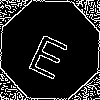E: (25, 25, 76, 81)
